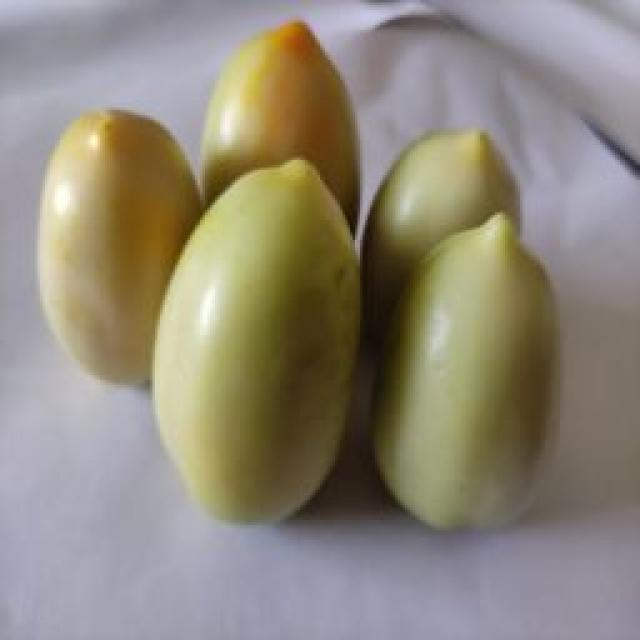tomato: (151, 154, 364, 530), (369, 213, 564, 534), (32, 106, 206, 387), (201, 17, 365, 244), (361, 127, 522, 300)
